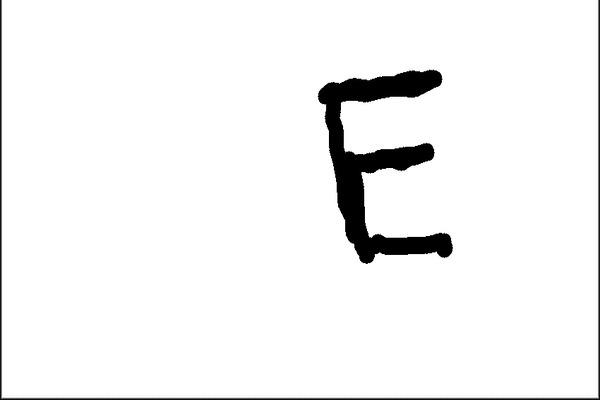E: (310, 67, 460, 267)
